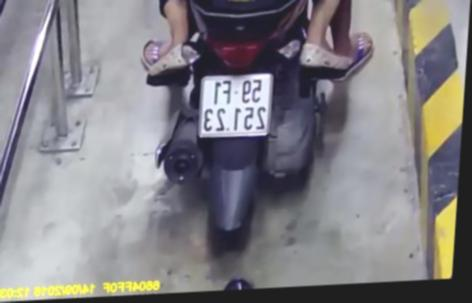License_Plate: (193, 67, 281, 142)
